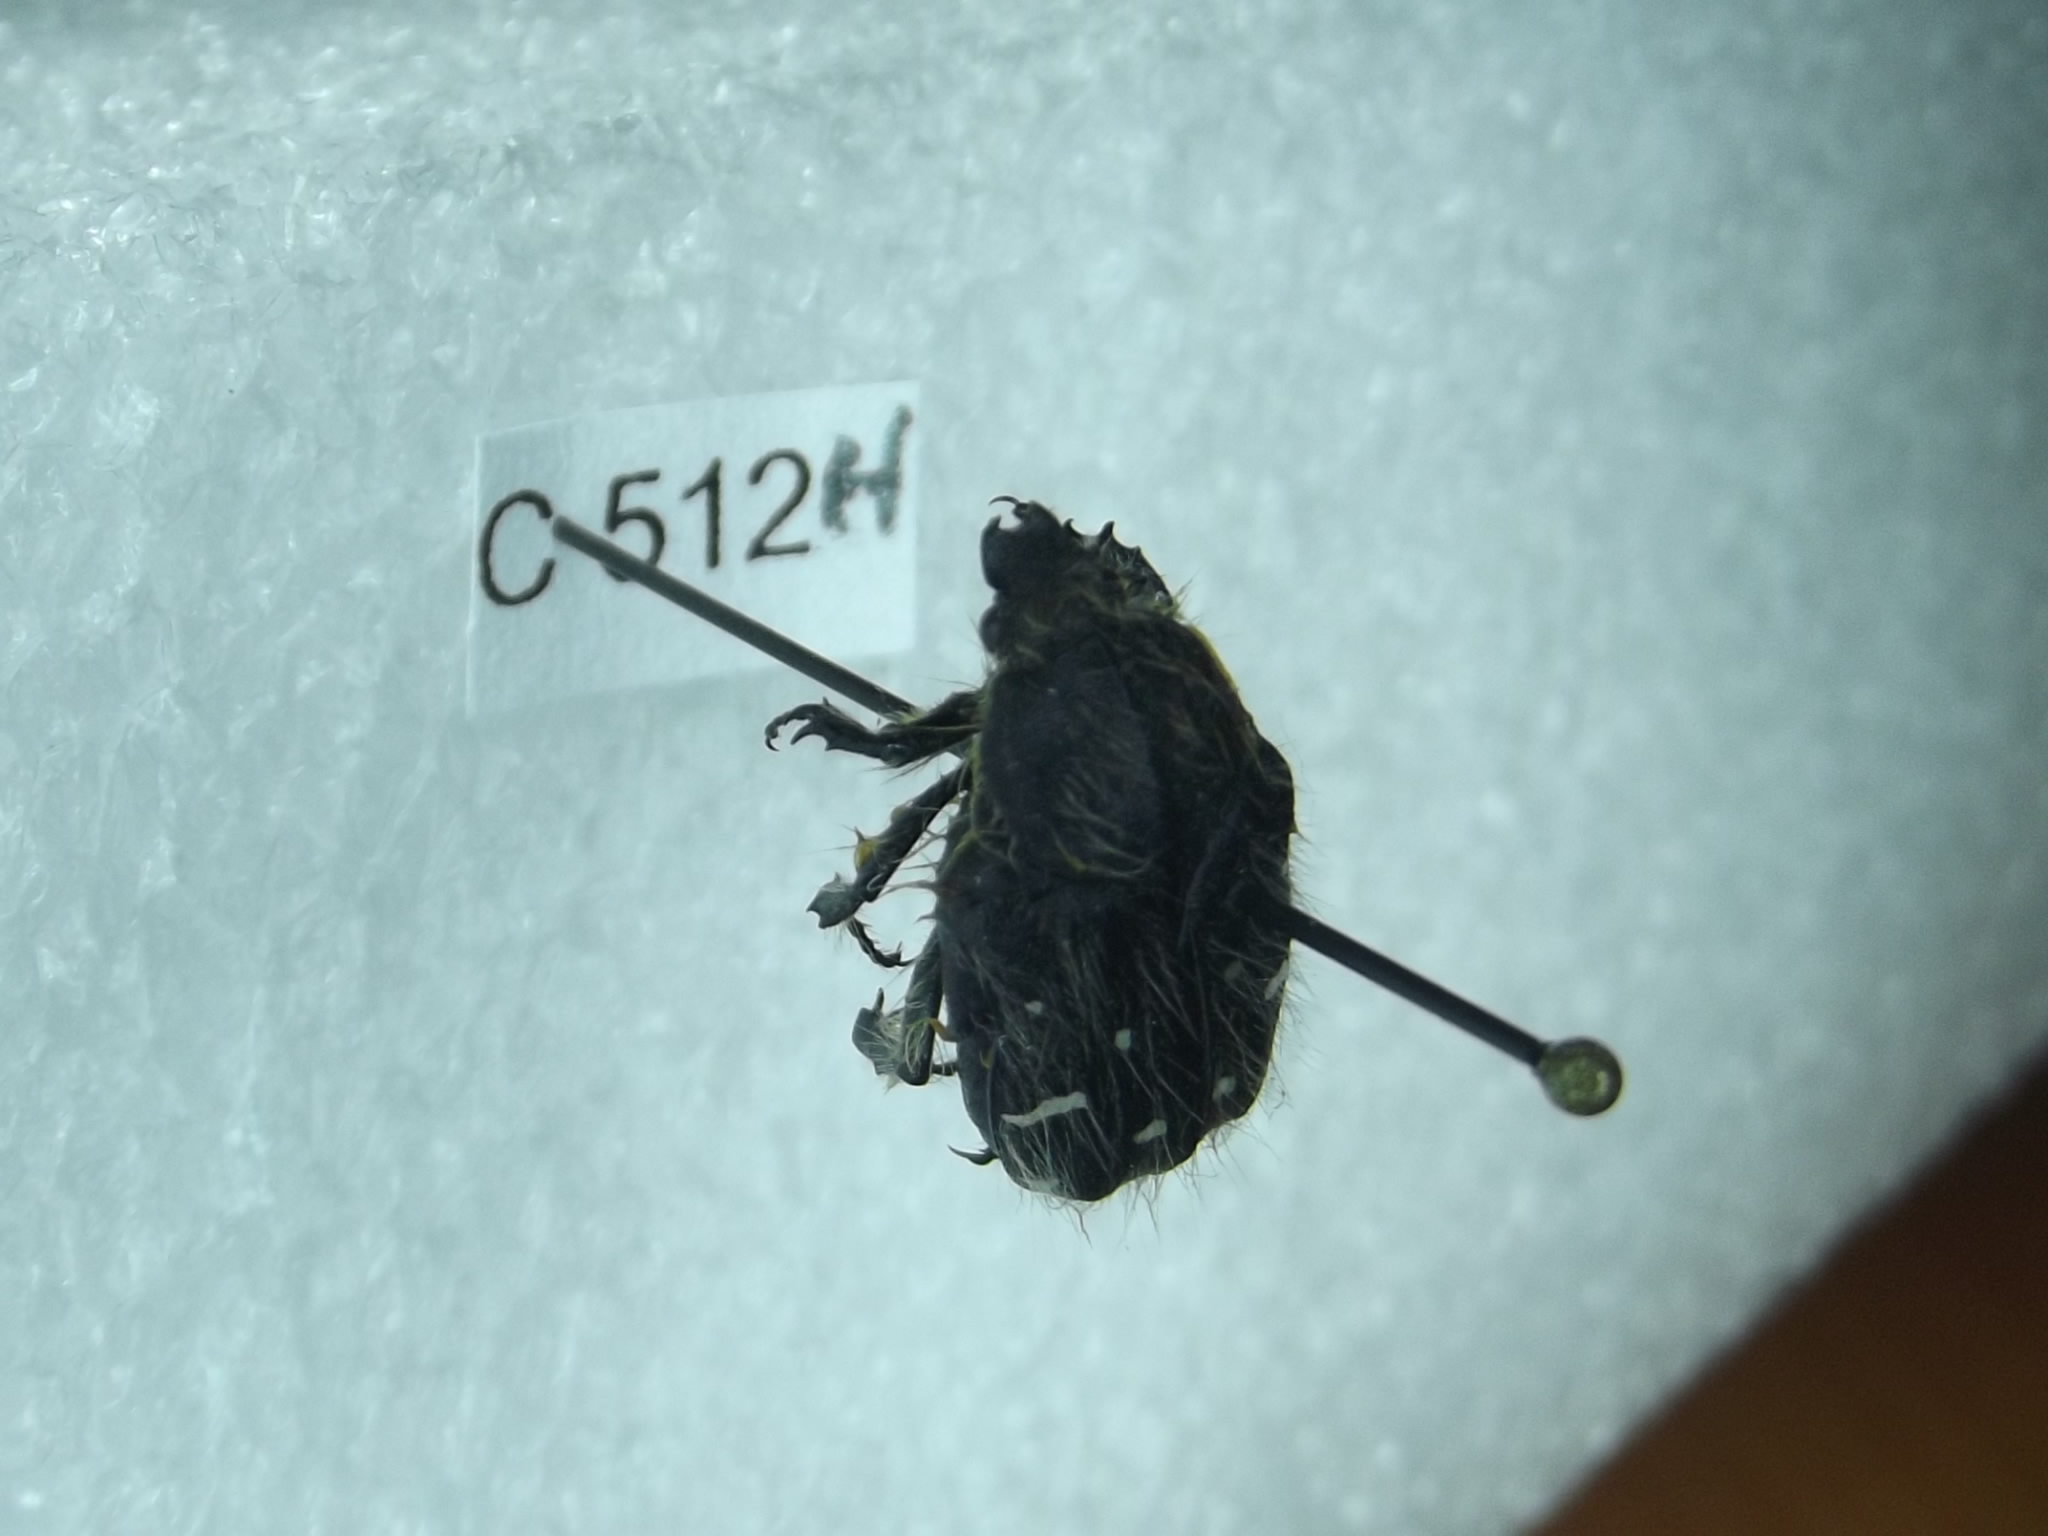Tropinota_senicula: (755, 481, 1350, 1244)
